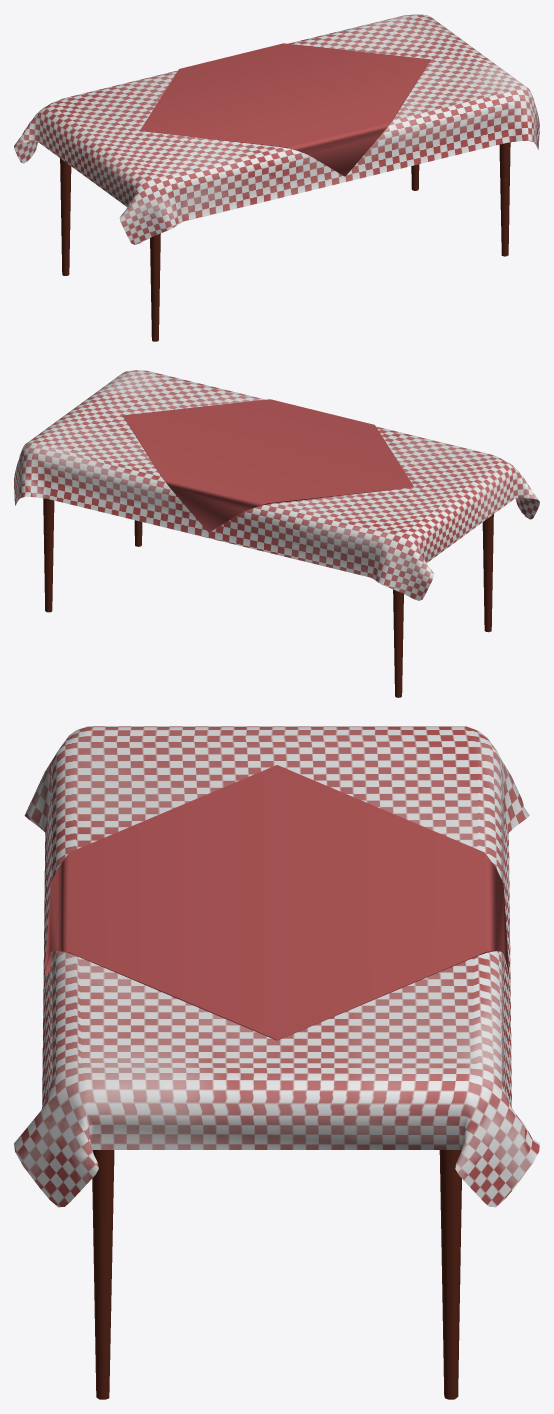
Rendered from SM_Table_LOD.fbx.
3 views of the same model, one above another, from view 1: azimuth 30°, elevation 25°; view 2: azimuth 150°, elevation 25°; view 3: azimuth 270°, elevation 25° (orthographic). The views are drawn at different scales.
Visible parts, largest first — view 1: TableTop_LOD1; view 2: TableTop_LOD1; view 3: TableTop_LOD1.
Part boxes in pixels (box(x1,y1,x2,y2)): TableTop_LOD1: box(14, 14, 539, 341); TableTop_LOD1: box(14, 370, 539, 697); TableTop_LOD1: box(14, 726, 539, 1399).
Bounding box in the file's own units: 208 × 79.56 × 115.
